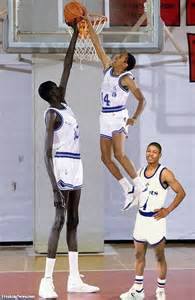basketball: (63, 1, 84, 22)
